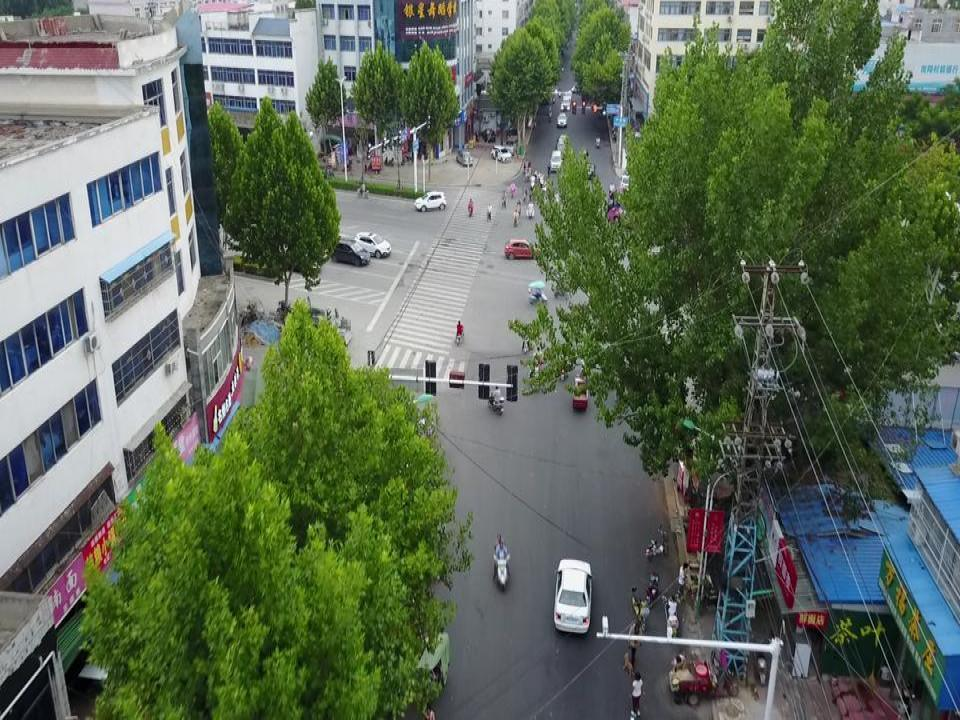bus: (604, 187, 685, 236)
car: (554, 557, 595, 635), (329, 238, 371, 266), (352, 232, 392, 259), (504, 236, 543, 260), (413, 191, 447, 212), (490, 144, 513, 163), (456, 150, 474, 166), (583, 162, 597, 182), (555, 140, 567, 160), (481, 127, 496, 142), (556, 112, 568, 129), (557, 133, 569, 147), (560, 96, 571, 111)
van: (549, 149, 563, 172), (503, 134, 519, 154)
